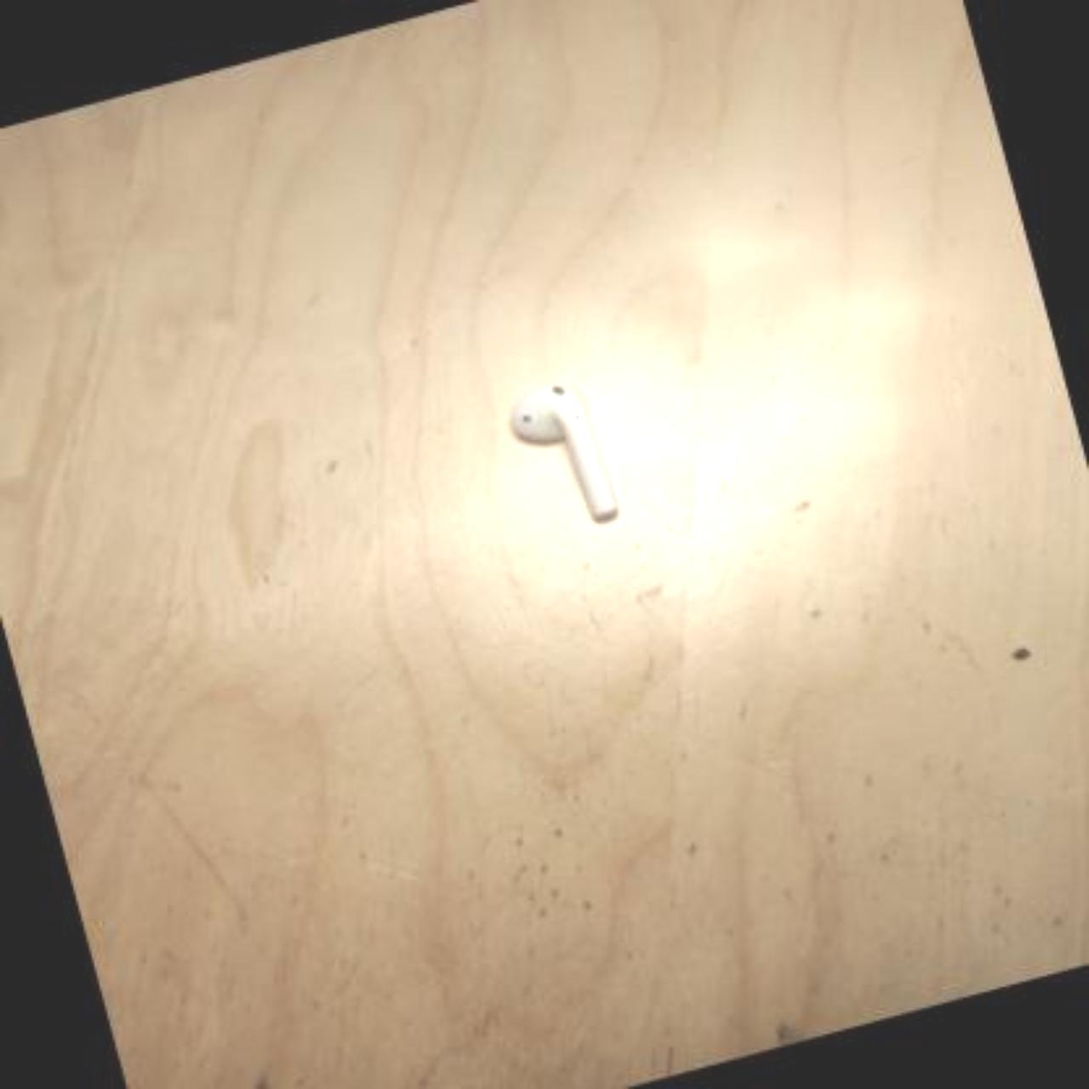Airpods_Units: (492, 370, 631, 553)
